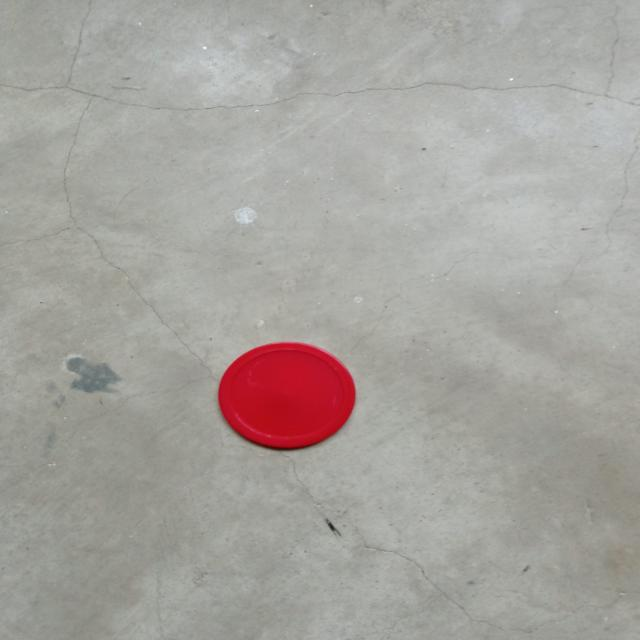chip: (217, 341, 359, 448)
